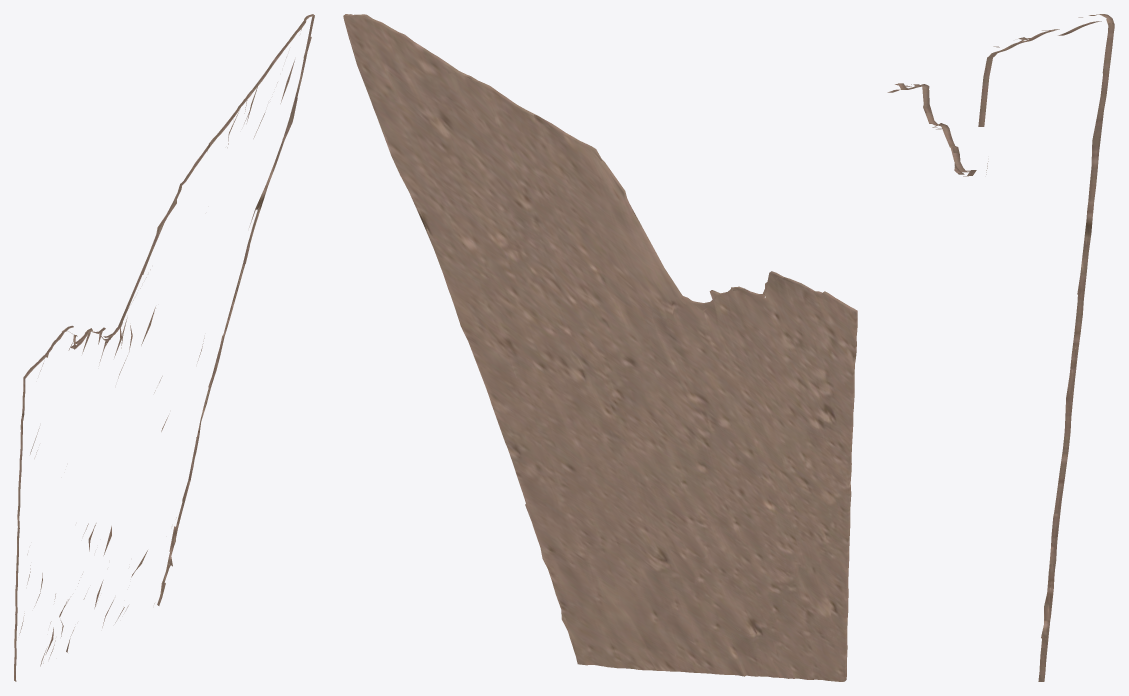
3 views of the same model, side by side, from view 1: azimuth 30°, elevation 25°; view 2: azimuth 150°, elevation 25°; view 3: azimuth 270°, elevation 25° (orthographic). The views are drawn at different scales.
Bounding box in the file's own units: 1.04 × 1.46 × 0.3817.
Materials: 1 (1 with a texture image).
